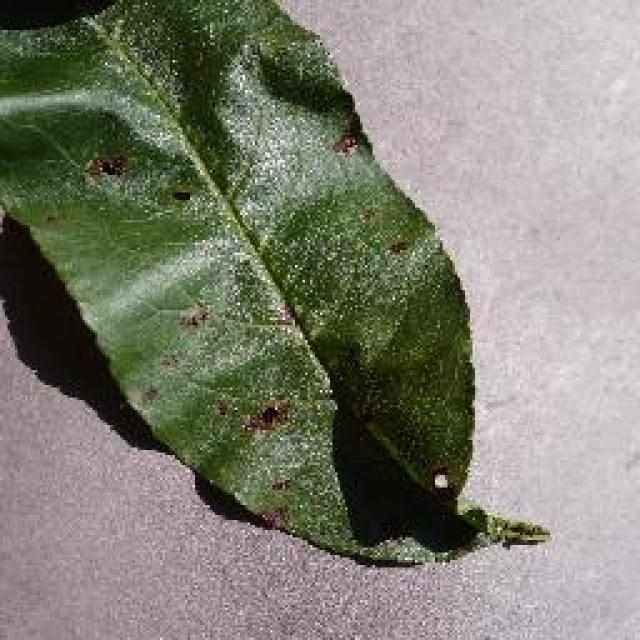Peach_Bacterial_Spot: (54, 77, 454, 510)
